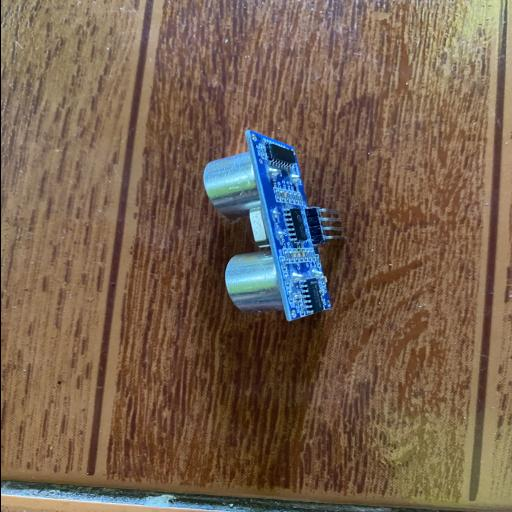Ultrasonic Sensor: (202, 129, 344, 322)
